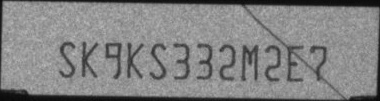2: (218, 42, 236, 80), (265, 44, 282, 82)
3: (171, 43, 191, 79), (196, 41, 213, 81)
7: (310, 44, 328, 83)
9: (105, 41, 121, 80)
E: (287, 44, 306, 82)
K: (81, 41, 99, 78), (127, 40, 143, 78)
M: (240, 44, 258, 82)
S: (149, 42, 168, 79), (58, 40, 76, 78)
